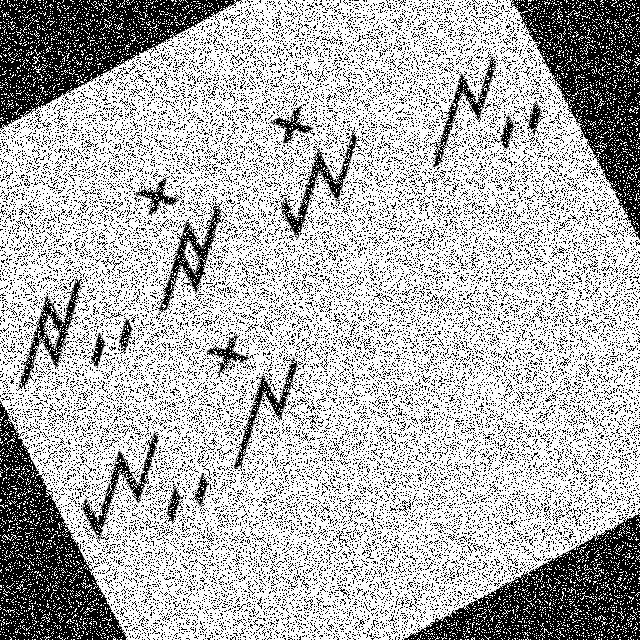lah: (384, 28, 563, 203)
lo: (172, 301, 344, 482)
rah: (0, 255, 149, 416)
ro: (88, 144, 281, 334)
yah: (48, 397, 226, 572)
yo: (231, 69, 398, 244)
